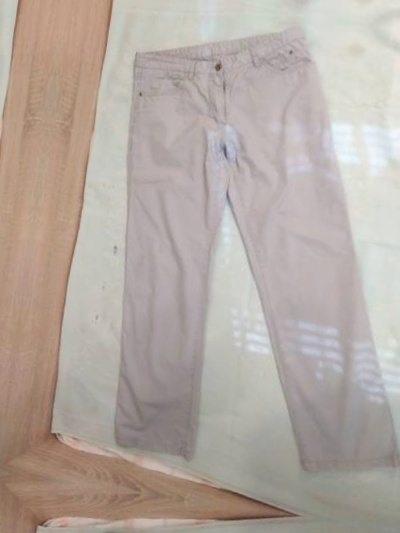Pants: (58, 1, 400, 507), (0, 501, 369, 533), (128, 0, 400, 25), (0, 0, 8, 444)
